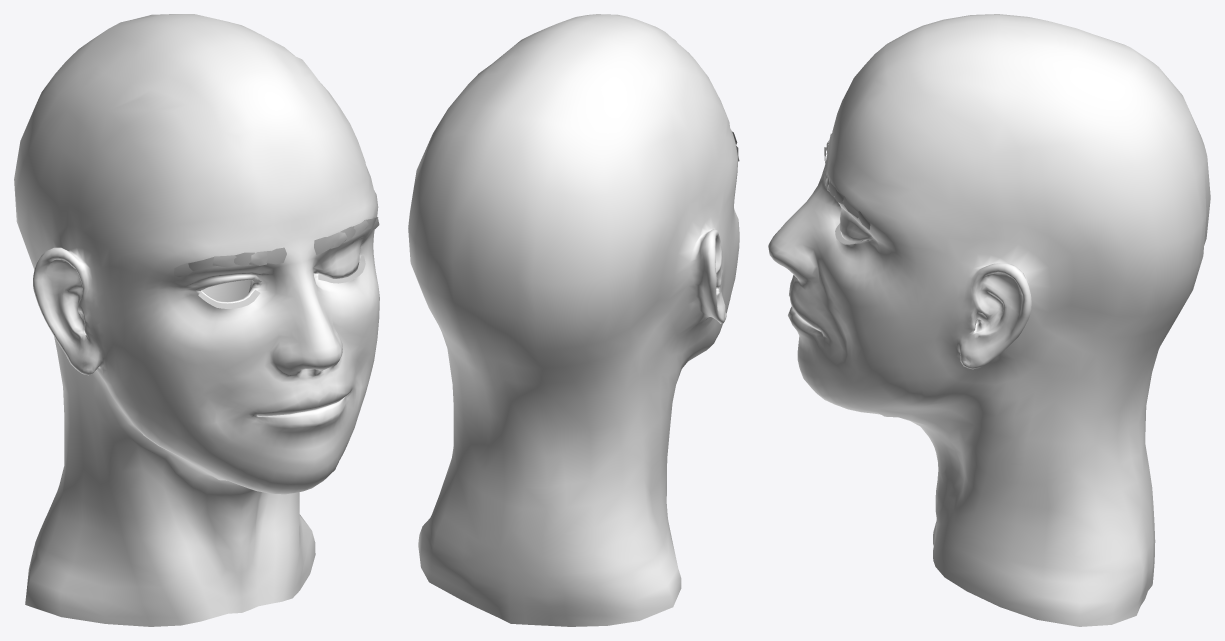
Rendered from eyeBlinkLeft.obj.
3 renders of one model, left to right at view 1: azimuth 30°, elevation 25°; view 2: azimuth 150°, elevation 25°; view 3: azimuth 270°, elevation 25°, orthographic. The views are drawn at different scales.
Parts seen in each view (by area): view 1: FaceMesh_Plane.003; view 2: FaceMesh_Plane.003; view 3: FaceMesh_Plane.003.
Boxes of the visible parts, bbox=[...] form: FaceMesh_Plane.003: bbox=[14, 14, 379, 626]; FaceMesh_Plane.003: bbox=[408, 14, 739, 626]; FaceMesh_Plane.003: bbox=[768, 14, 1210, 626].
Bounding box in the file's own units: 1.54 × 2.71 × 1.94.
5 materials, 1 textured.
